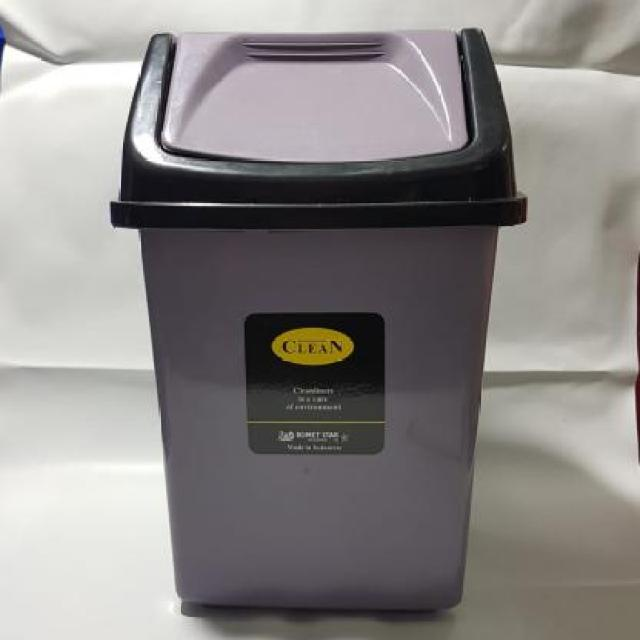garbage container: (104, 20, 536, 638)
